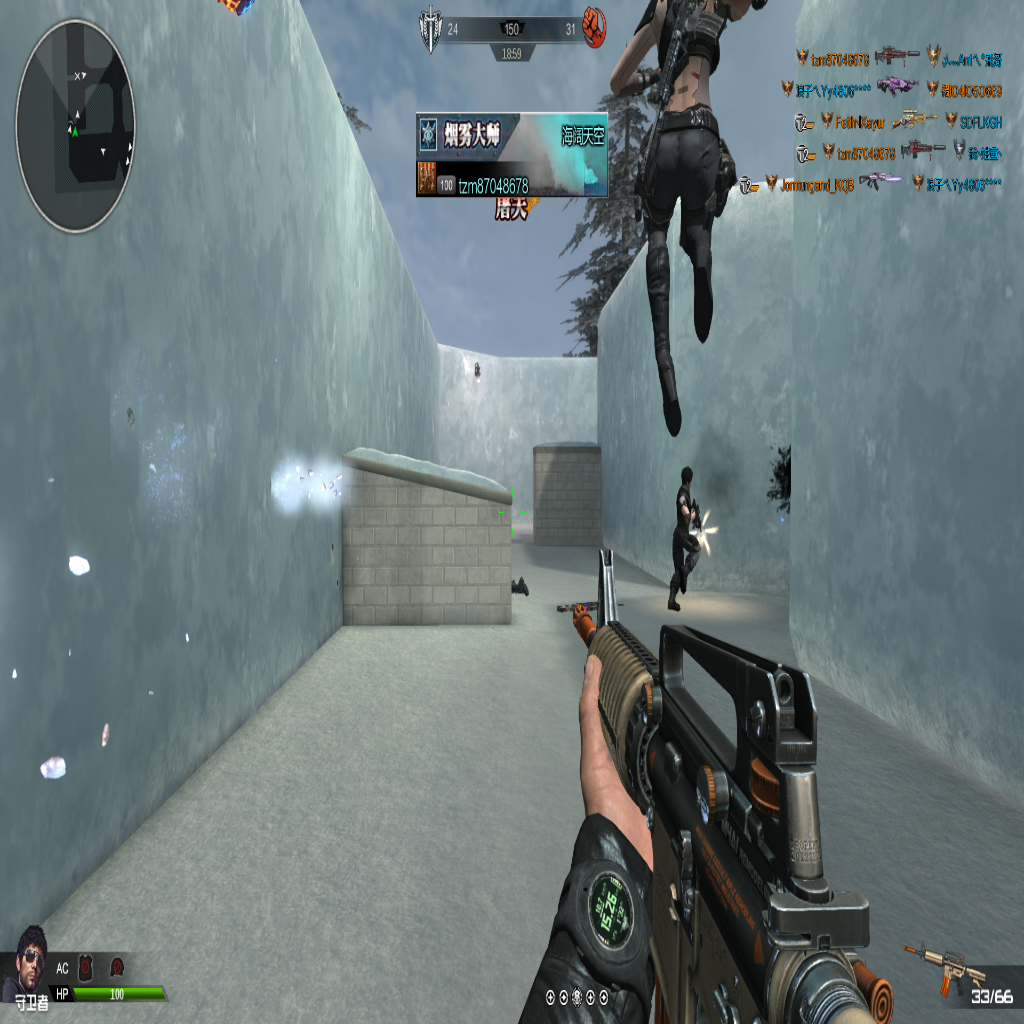ct: (612, 0, 767, 435), (674, 464, 706, 601)
